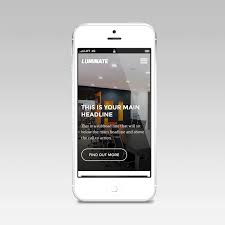iphone: (67, 17, 158, 204)
